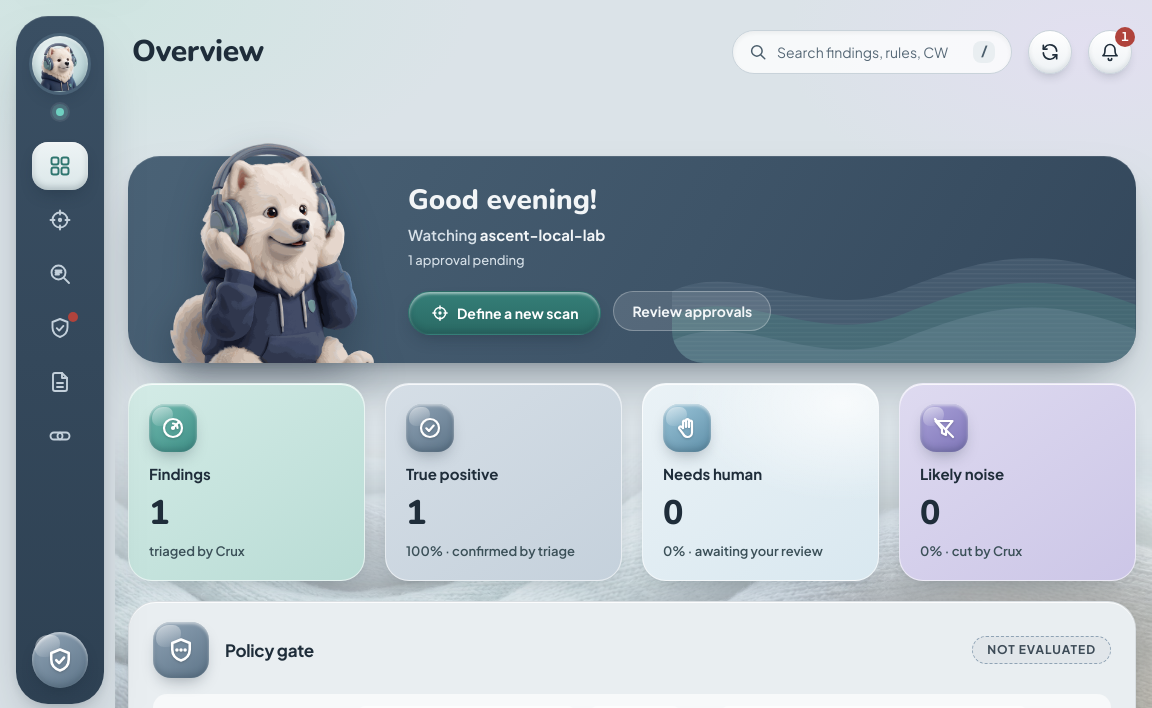
Scenario: deciding a gate on the Approval gates screen updates the bell
Click the button named "Pending approvals: 1" at (1110, 52), box [1088,30,1132,74]
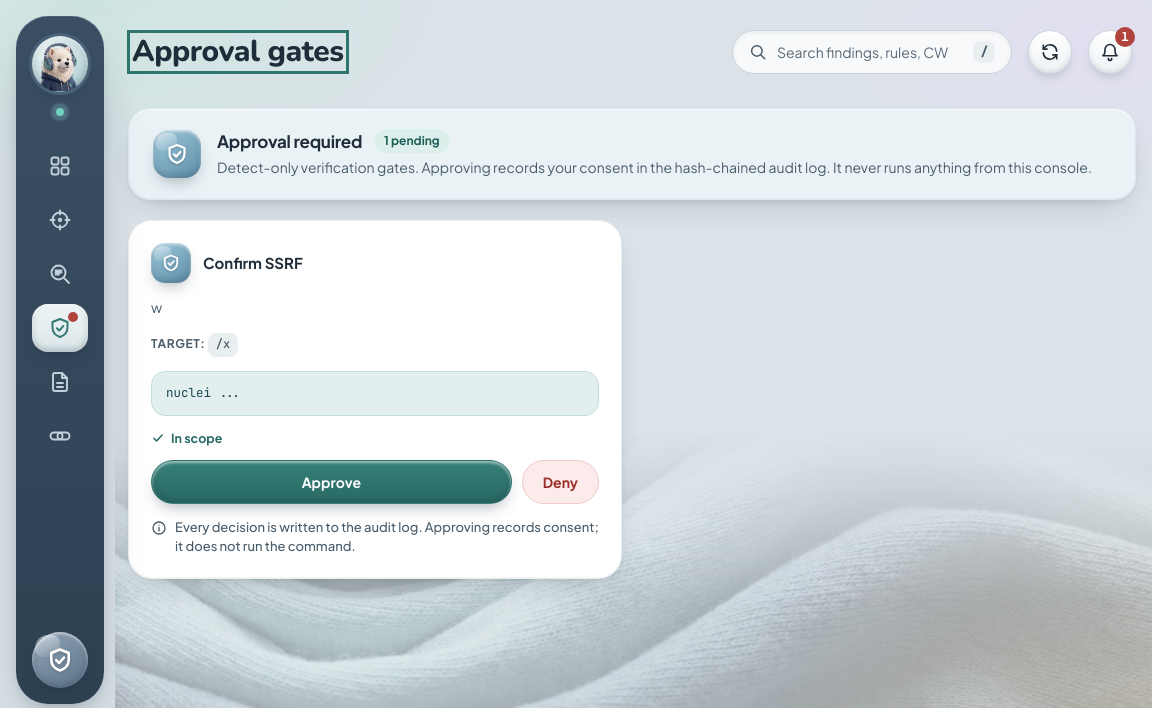
Click the button "Approve" at (331, 482), box [151,460,512,504]
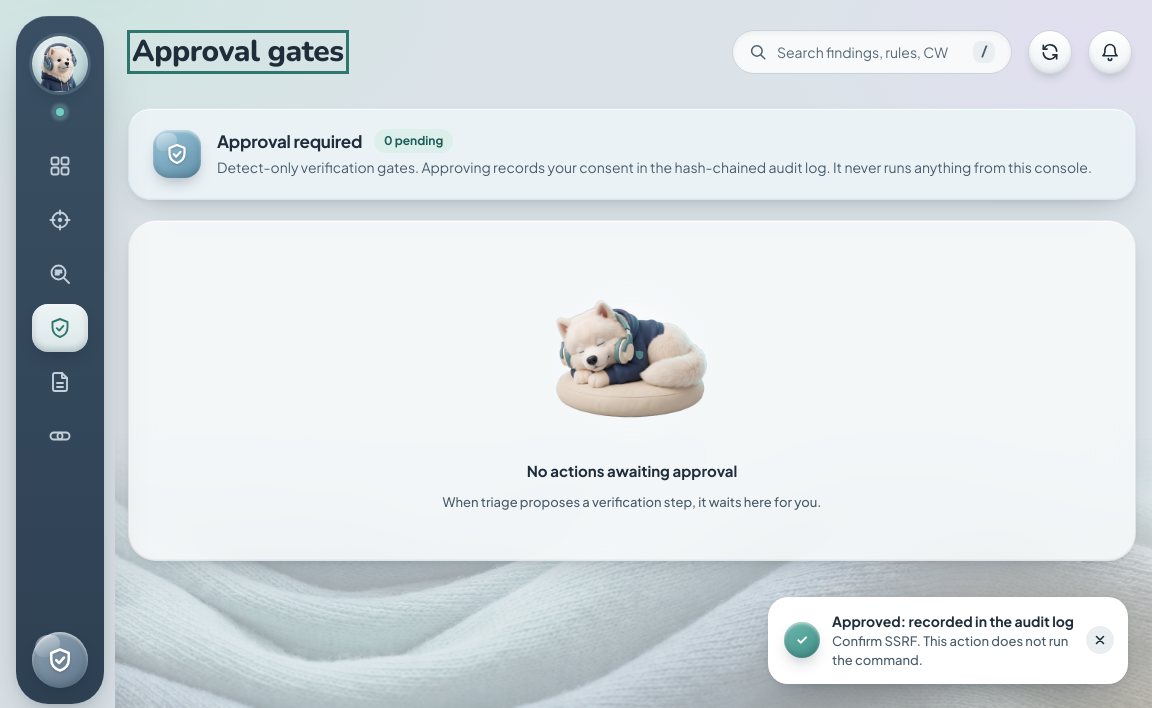
Now the button named "Pending approvals: 0" is shown, box [1088,30,1132,74]
